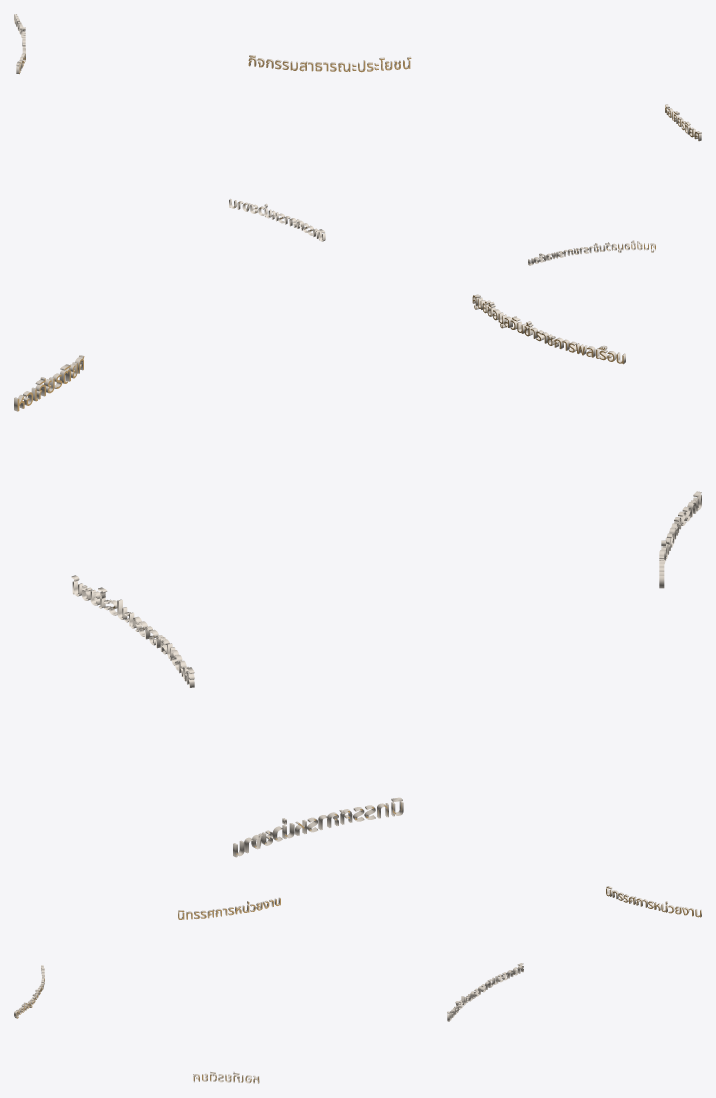
File: Text_MainHall_Emission.fbx
The picture shows the model from 3 angles, top to bottom: view 1: azimuth 30°, elevation 25°; view 2: azimuth 150°, elevation 25°; view 3: azimuth 270°, elevation 25°; orthographic projection. The views are drawn at different scales.
Visible parts, largest first — view 1: Text_PublicServices, Text_AgencyExhibition1, Text_InformationCenter, Text_Honor; view 2: Text_AgencyExhibition2, Text_PublicServices, Text_InformationCenter, Text_Honor, Text_AgencyExhibition1; view 3: Text_PublicServices, Text_AgencyExhibition2, Text_AgencyExhibition1, Text_Honor, Text_InformationCenter.
Boxes of the visible parts, <box> form: Text_PublicServices: <box>248,55,411,72</box>; Text_AgencyExhibition1: <box>229,199,325,241</box>; Text_InformationCenter: <box>528,240,655,265</box>; Text_Honor: <box>665,104,701,141</box>; Text_AgencyExhibition2: <box>233,797,403,857</box>; Text_PublicServices: <box>71,575,194,687</box>; Text_InformationCenter: <box>472,294,625,364</box>; Text_Honor: <box>14,355,84,411</box>; Text_AgencyExhibition1: <box>659,491,701,588</box>; Text_PublicServices: <box>447,963,523,1021</box>; Text_AgencyExhibition2: <box>606,886,701,917</box>; Text_AgencyExhibition1: <box>178,897,280,919</box>; Text_Honor: <box>193,1071,259,1083</box>; Text_InformationCenter: <box>14,965,44,1018</box>.
Size of the model in its own units: 3294 by 86.21 by 5042.
